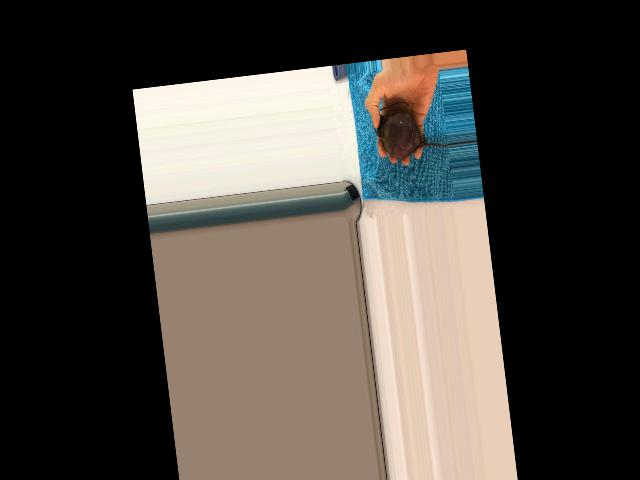beet: (371, 97, 449, 161)
